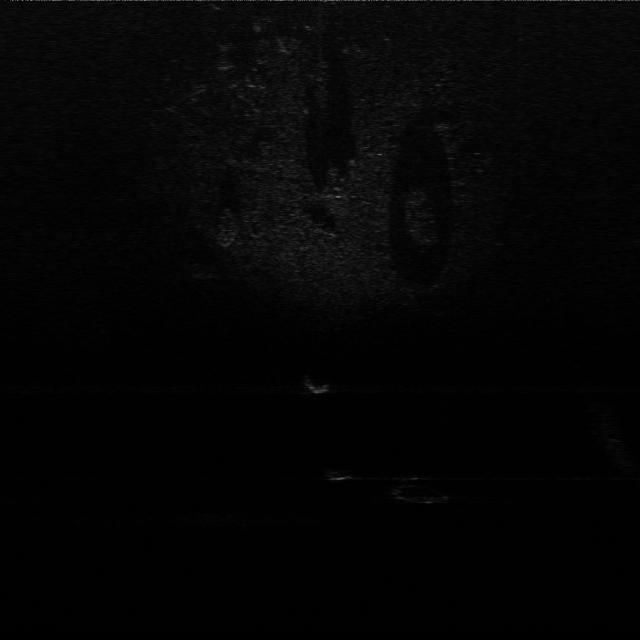cube: (324, 462, 366, 484)
square cage: (302, 372, 337, 398)
tyre: (388, 464, 463, 510)
